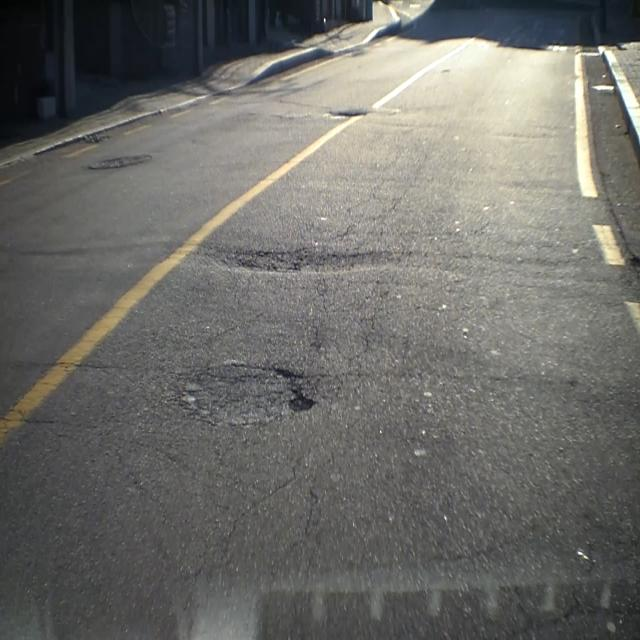Pothole: (170, 357, 319, 433), (196, 233, 397, 287)
